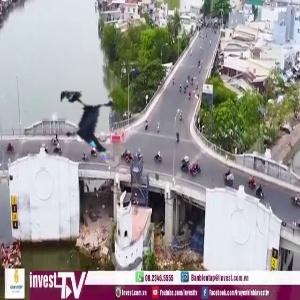drone: (60, 92, 138, 170)
